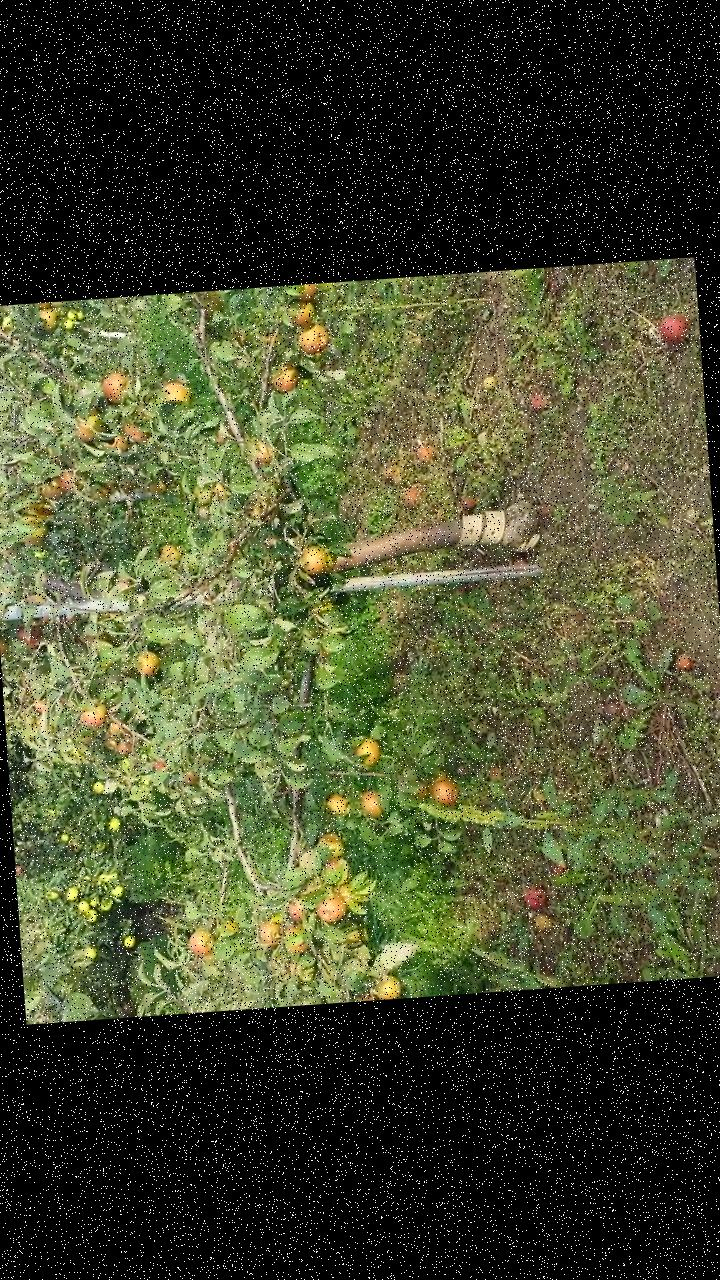Apple: (295, 320, 328, 352), (74, 408, 104, 441), (18, 512, 48, 544), (270, 361, 298, 392), (430, 778, 461, 806), (314, 894, 344, 922), (298, 542, 326, 572), (285, 298, 315, 326), (282, 924, 310, 953), (373, 971, 402, 999), (161, 378, 191, 404), (80, 698, 105, 729), (14, 618, 42, 645), (100, 370, 127, 398), (354, 736, 378, 766), (133, 649, 160, 675), (186, 927, 214, 952), (34, 305, 61, 330), (252, 435, 276, 463), (318, 830, 346, 854), (255, 920, 281, 945), (38, 474, 62, 500), (100, 432, 130, 452), (124, 419, 148, 443), (157, 540, 183, 562), (282, 897, 304, 923), (358, 790, 380, 815), (56, 468, 76, 493), (326, 790, 346, 814), (108, 716, 127, 736), (218, 918, 239, 934), (429, 770, 450, 786), (322, 856, 344, 871), (148, 478, 166, 496), (116, 738, 134, 755), (182, 768, 200, 784), (299, 283, 318, 297), (32, 697, 47, 714), (0, 633, 8, 659), (94, 482, 110, 495)
